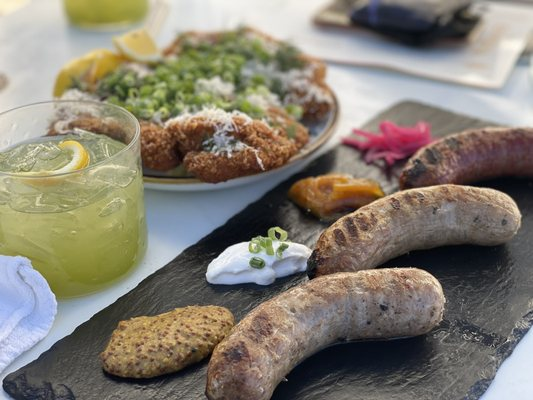pizza: (0, 99, 147, 296), (59, 0, 150, 33)
